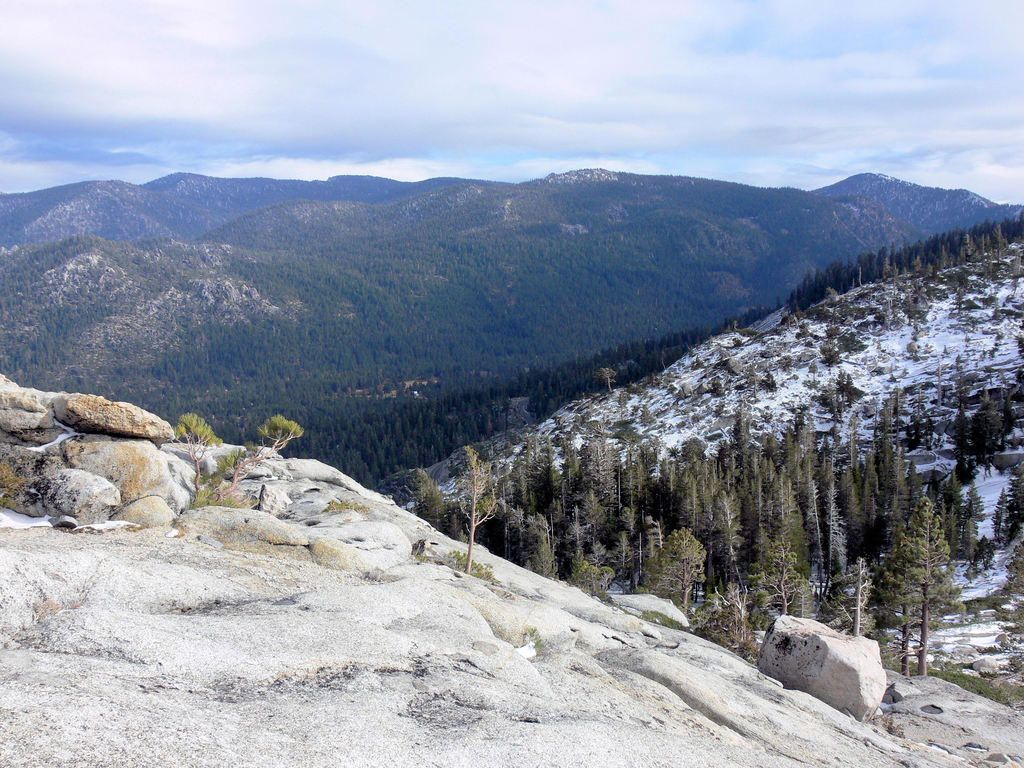Tree: (0, 209, 1023, 717), (887, 497, 971, 680), (174, 415, 304, 504), (443, 444, 497, 574)
